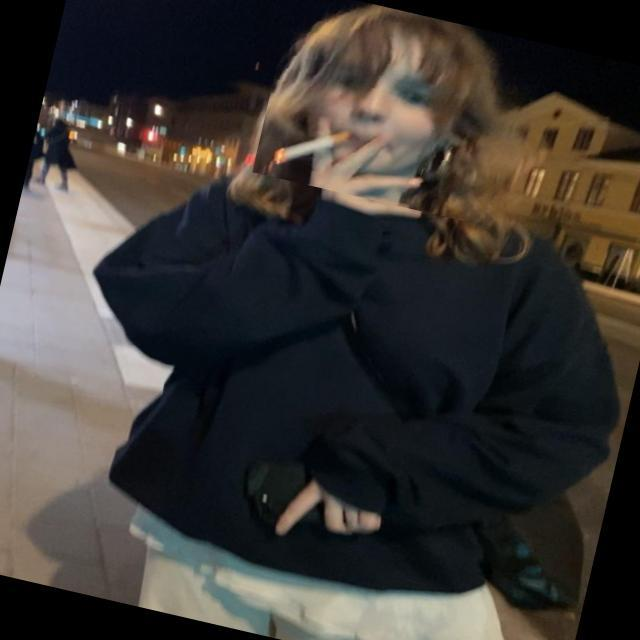cigarette: (280, 108, 358, 182)
